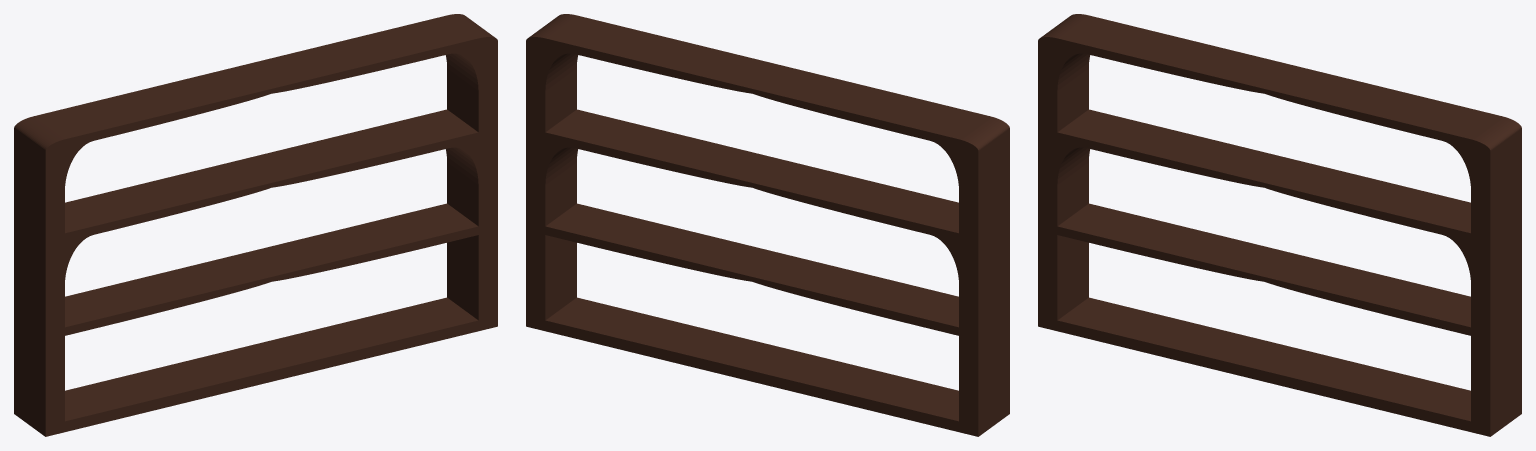
Rendered from Shelf2_.fbx.
3 views of the same model, side by side, from view 1: azimuth 30°, elevation 25°; view 2: azimuth 150°, elevation 25°; view 3: azimuth 330°, elevation 25° (orthographic).
Parts seen in each view (by area): view 1: Cube; view 2: Cube; view 3: Cube.
Part boxes in pixels (x1=…): Cube: x1=14, y1=14, x2=497, y2=436; Cube: x1=526, y1=14, x2=1009, y2=436; Cube: x1=1038, y1=14, x2=1521, y2=436.
Size of the model in its own units: 1661 by 1028 by 200.
